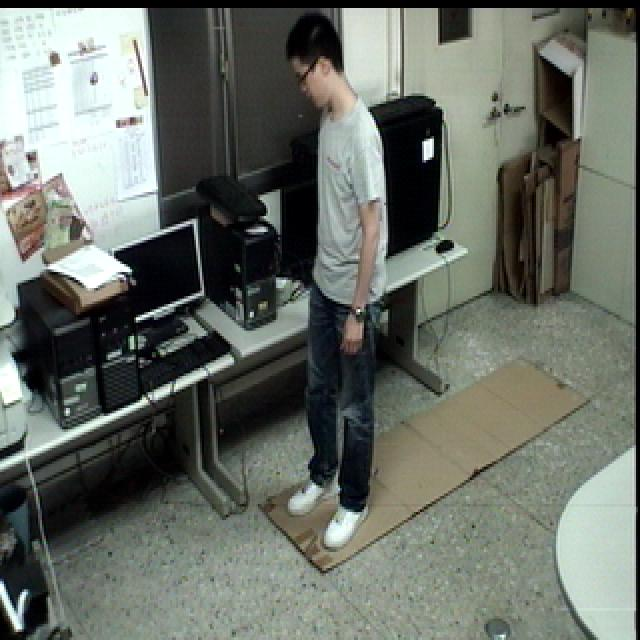stand: (280, 2, 390, 560)
